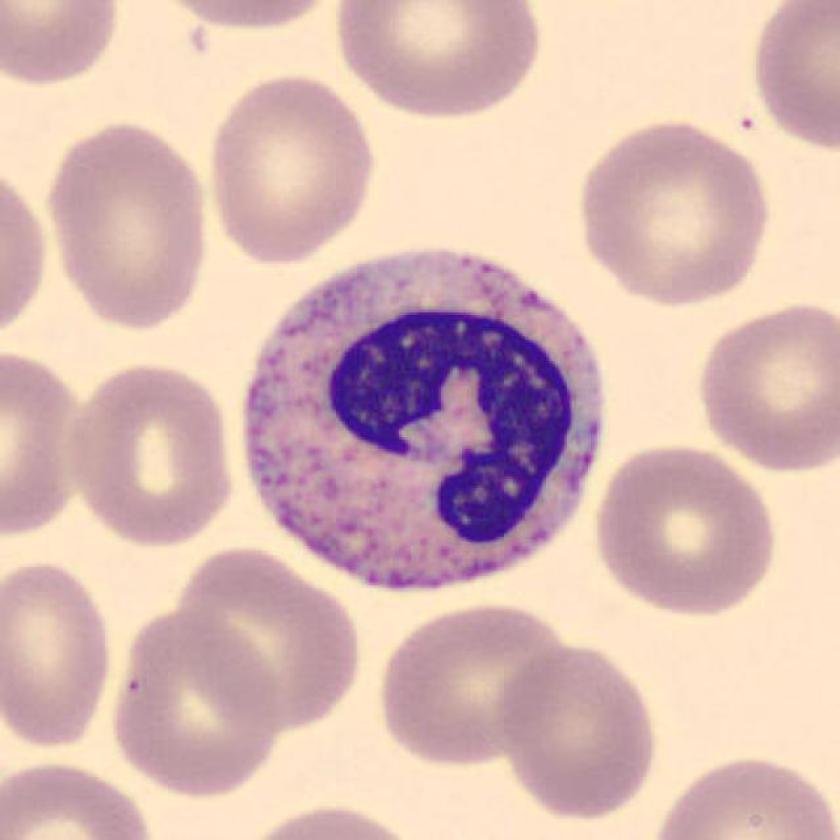neutrophil: (245, 251, 602, 591)
